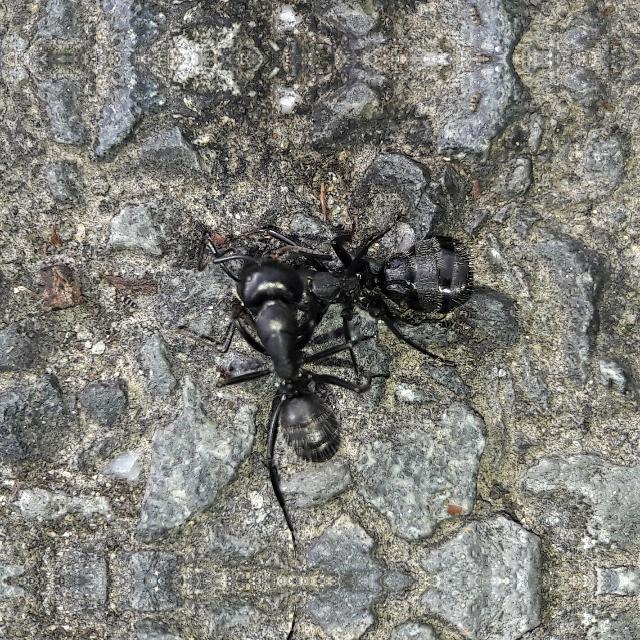Camponotus: (190, 232, 388, 490), (235, 210, 485, 336)
